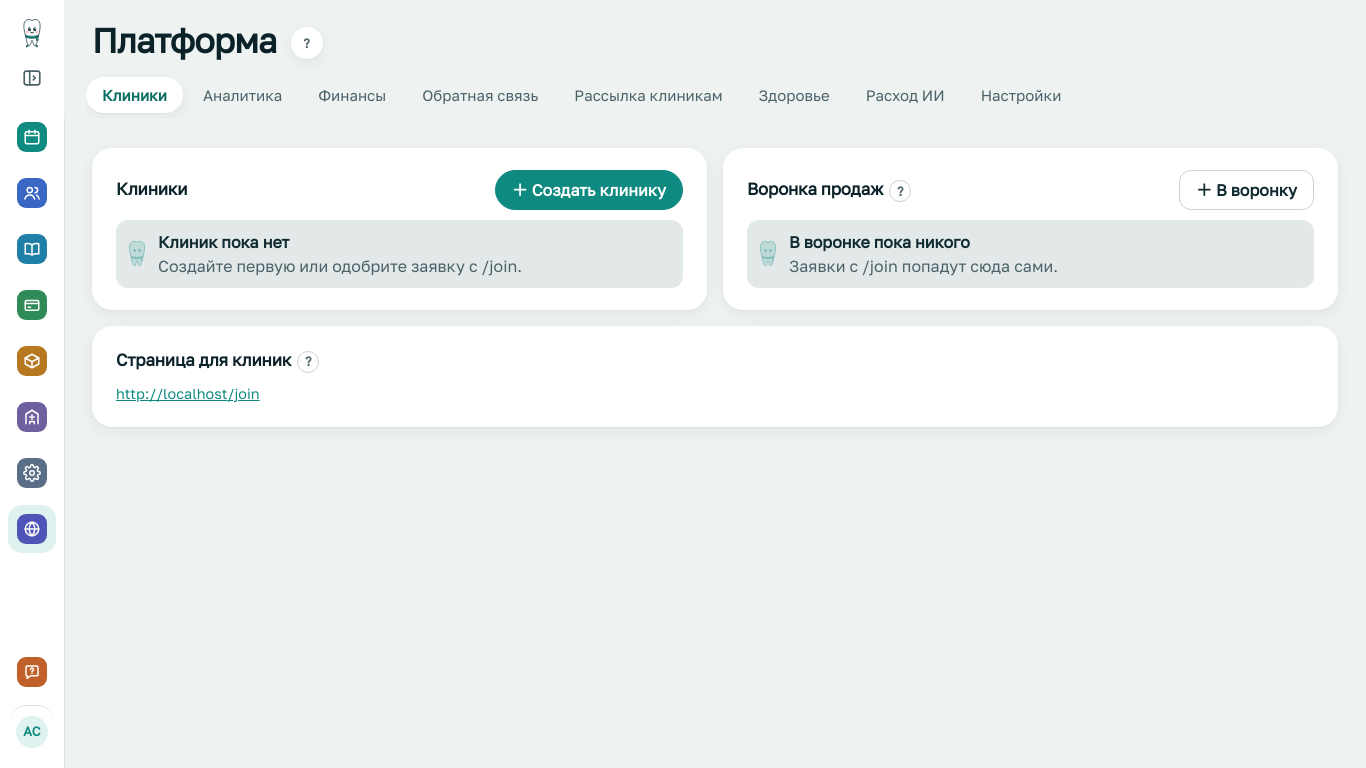
«Расход ИИ»: месяц без расхода — пустое состояние вместо таблицы; строка клиники открывает свой лимит
Later steps or results of the test are not shown.
Expected: the navigation bar named "Разделы" is shown, x1=8 y1=113 x2=56 y2=553
Click the link "Расход ИИ": (905,95) x1=866 y1=86 x2=945 y2=104
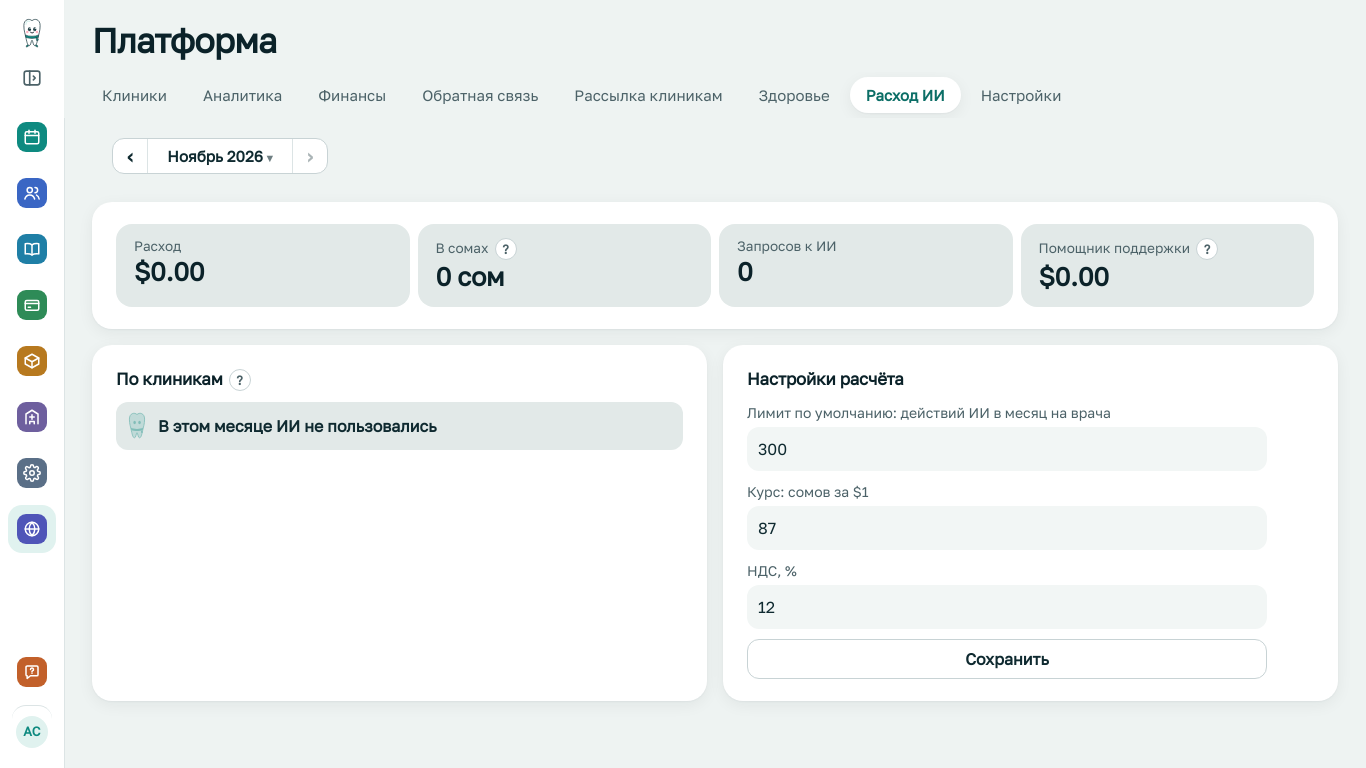
Now the text "В этом месяце ИИ не пользовались" is shown, box x1=158 y1=416 x2=437 y2=436
